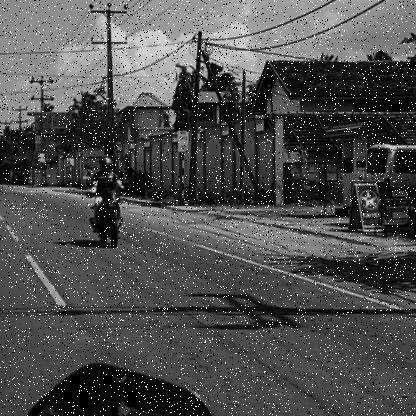motorcycle: (85, 186, 131, 250)
